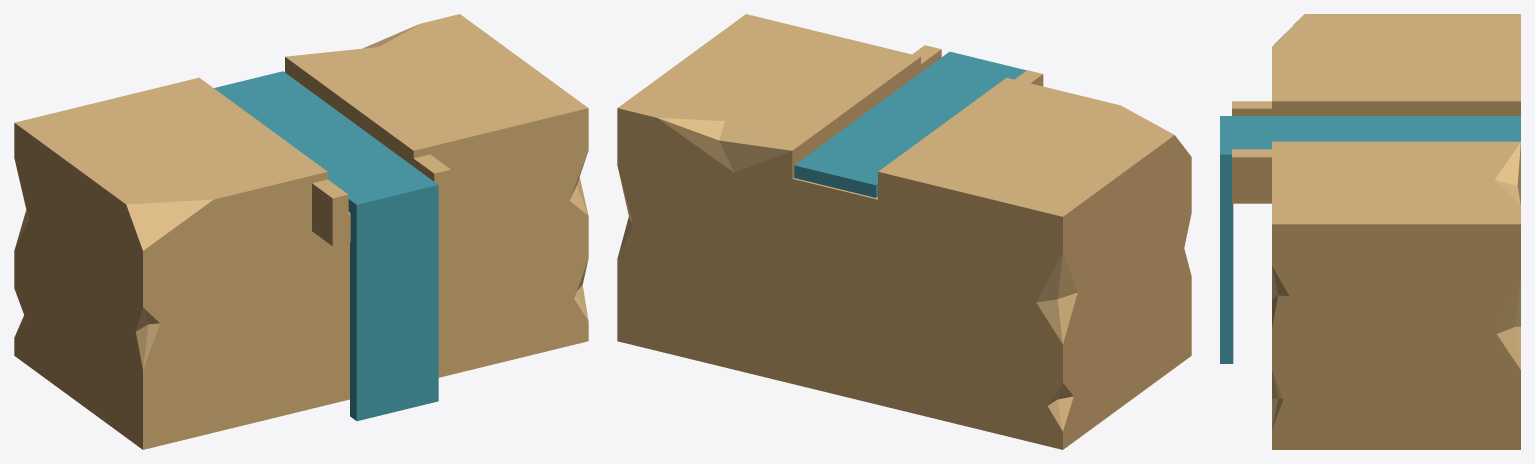
File: ST_Env_Block_Waterway_02.fbx
The picture shows the model from 3 angles, left to right: view 1: azimuth 30°, elevation 25°; view 2: azimuth 150°, elevation 25°; view 3: azimuth 270°, elevation 25°; orthographic projection. The views are drawn at different scales.
Visible parts, largest first — view 1: ST_Env_Block_Waterway_02; view 2: ST_Env_Block_Waterway_02; view 3: ST_Env_Block_Waterway_02.
Boxes of the visible parts, <box> form: ST_Env_Block_Waterway_02: <box>14,14,588,449</box>; ST_Env_Block_Waterway_02: <box>617,14,1191,449</box>; ST_Env_Block_Waterway_02: <box>1220,14,1520,449</box>.
Bounding box in the file's own units: 10 × 5 × 6.04.
